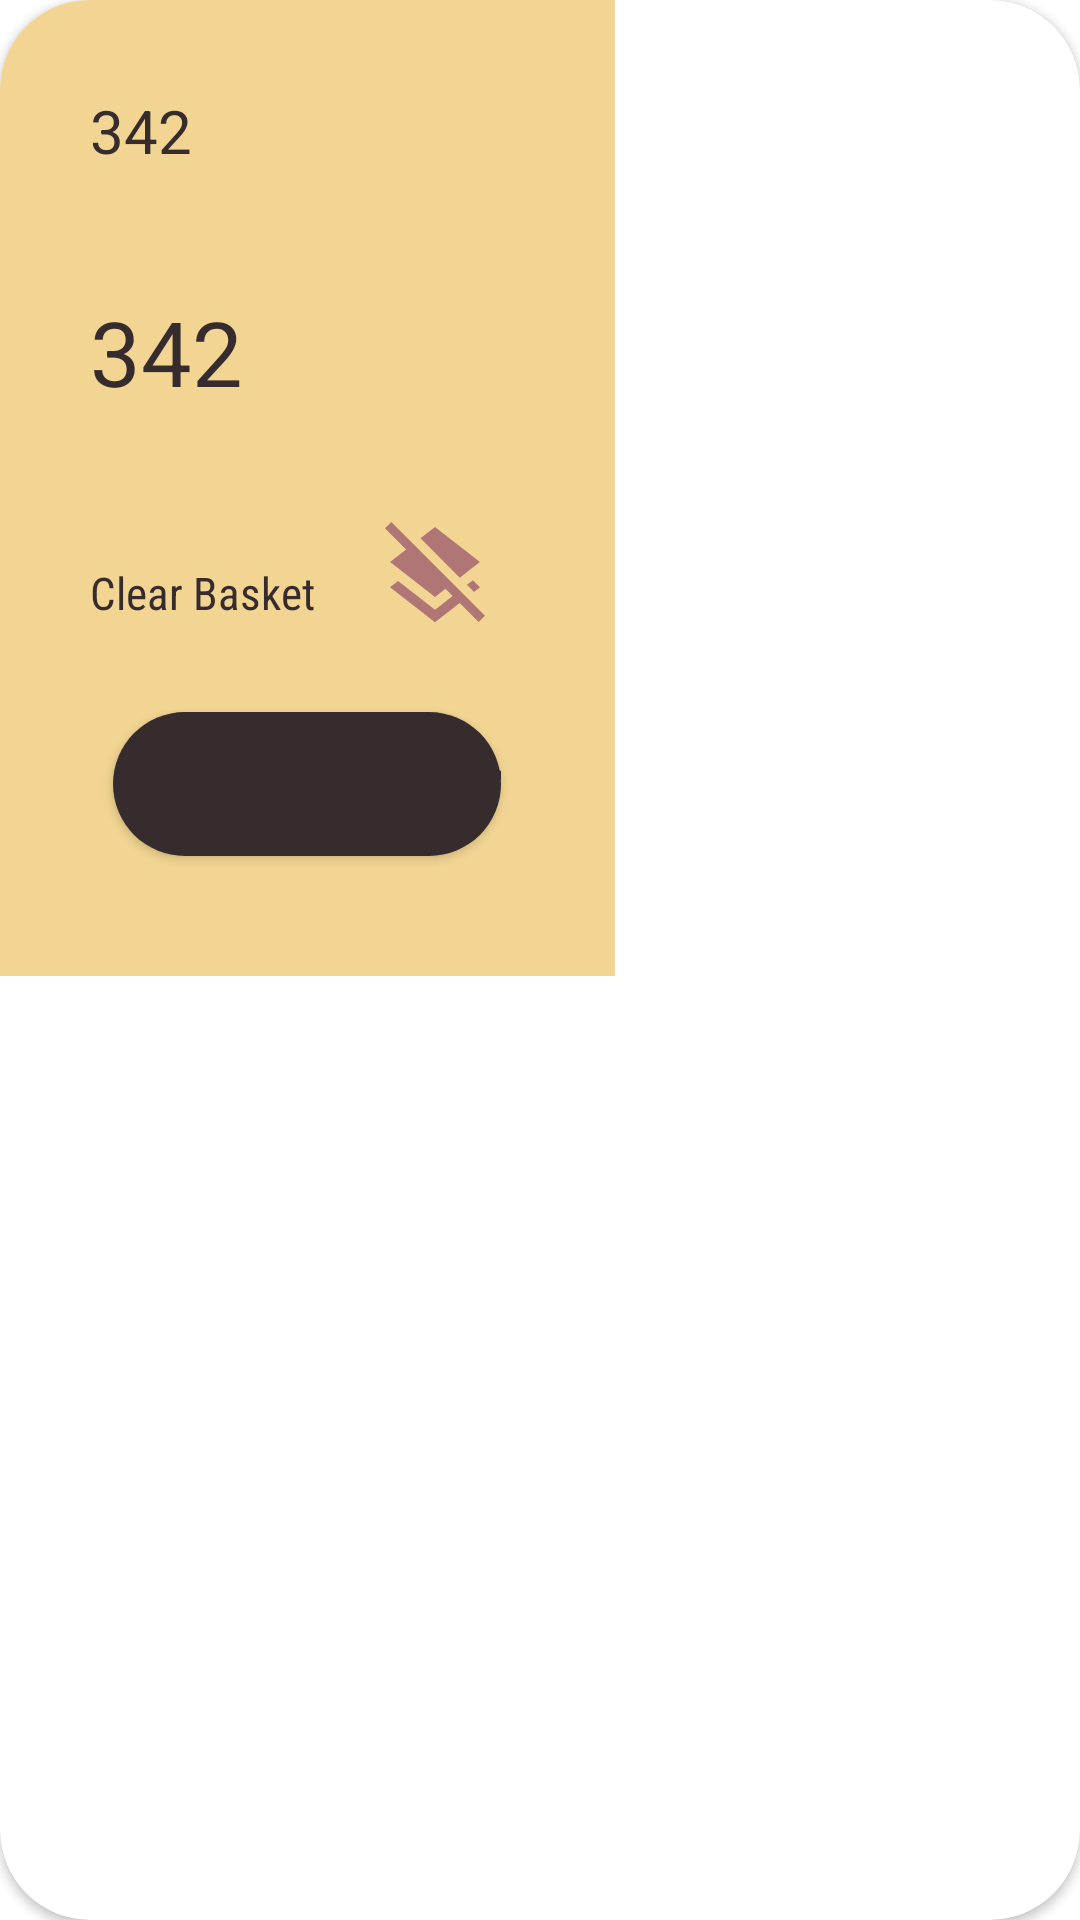

Screen size 1080w x 1920h. Icon name, then its center in pixels as (x=x, y=y):
layers clear: (x=435, y=572)
